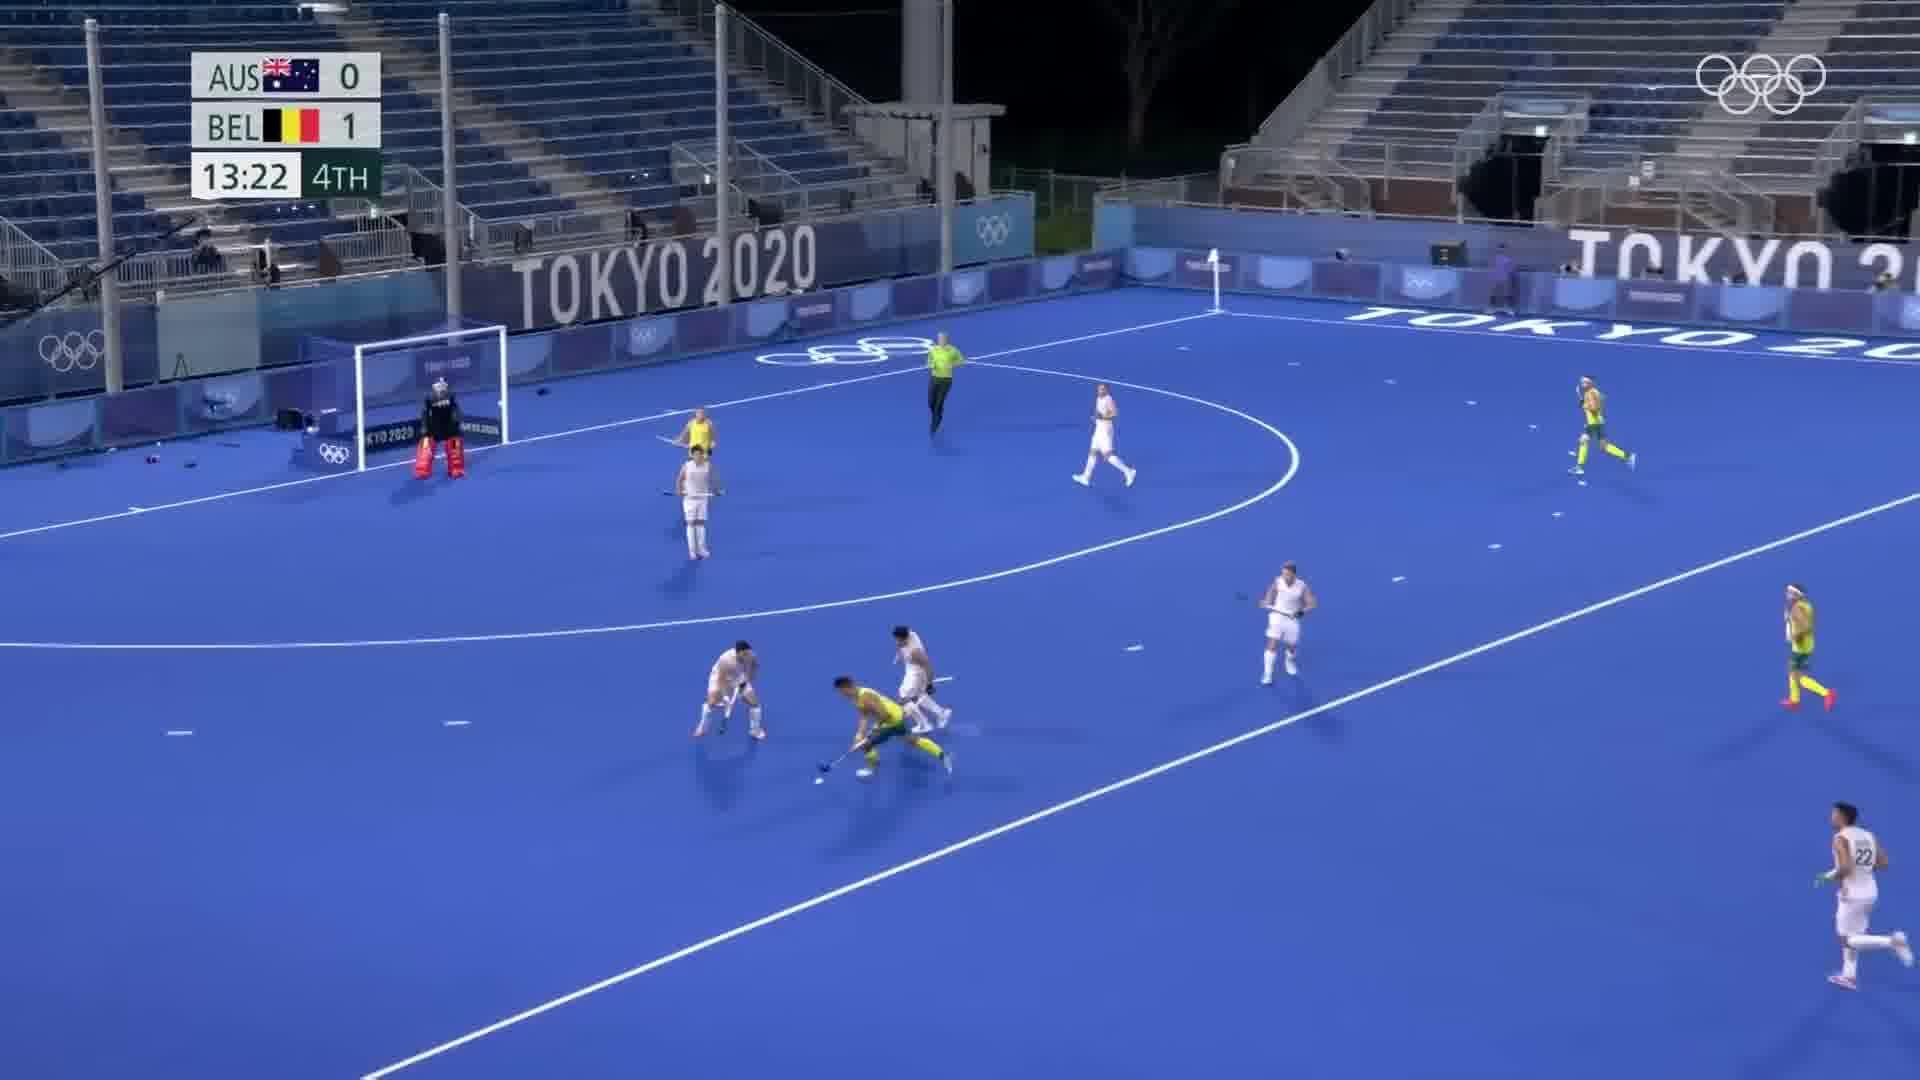ball: (806, 774, 828, 791)
